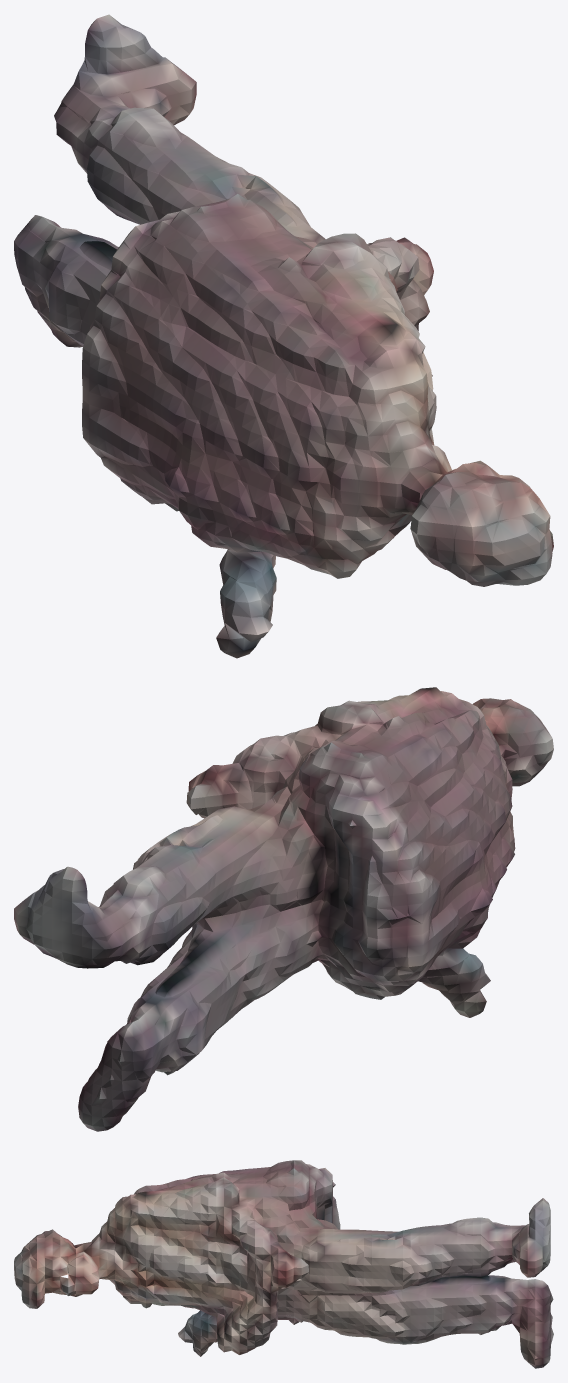
File: modern_scholar_m_0.glb
The picture shows the model from 3 angles, top to bottom: view 1: azimuth 30°, elevation 25°; view 2: azimuth 150°, elevation 25°; view 3: azimuth 270°, elevation 25°; orthographic projection. The views are drawn at different scales.
Visible parts, largest first — view 1: world; view 2: world; view 3: world.
Boxes of the visible parts, box(x1,y1,x2,y2) form: world: box(14, 14, 553, 658); world: box(14, 687, 553, 1131); world: box(14, 1160, 553, 1368).
Size of the model in its own units: 0.3543 by 0.4066 by 0.9504.
